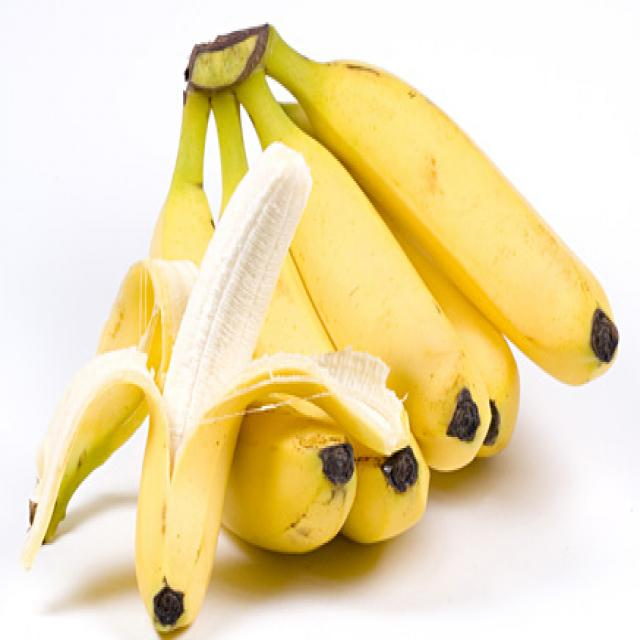banana: (126, 27, 622, 559), (46, 166, 320, 632)
